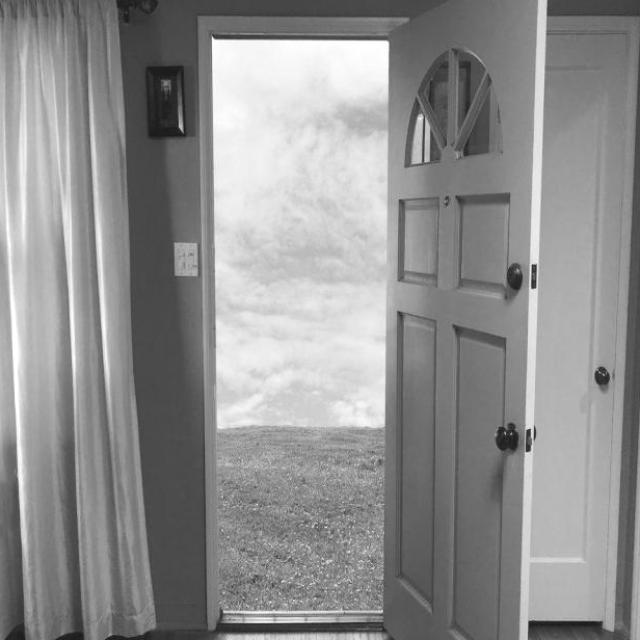door: (386, 0, 540, 640)
